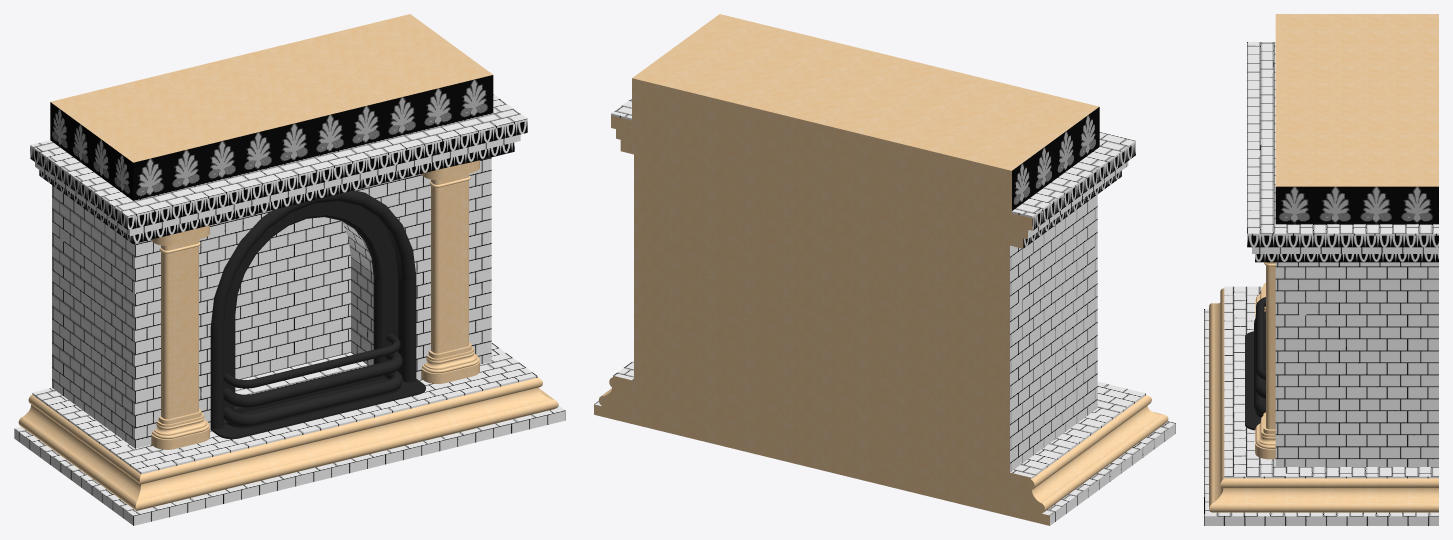
3 views of the same model, side by side, from view 1: azimuth 30°, elevation 25°; view 2: azimuth 150°, elevation 25°; view 3: azimuth 270°, elevation 25° (orthographic). The views are drawn at different scales.
Parts seen in each view (by area): view 1: SketchUp (×13); view 2: SketchUp (×7); view 3: SketchUp (×11).
Boxes of the visible parts, x1,y1,x2,y2 form: SketchUp (×13): (14, 14, 565, 525); SketchUp (×7): (594, 14, 1175, 525); SketchUp (×11): (1204, 14, 1438, 525).
Size of the model in its own units: 94.49 by 45.28 by 68.5.
